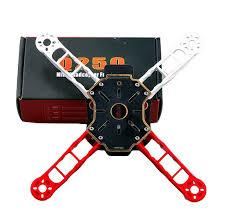drone: (32, 28, 210, 212)
